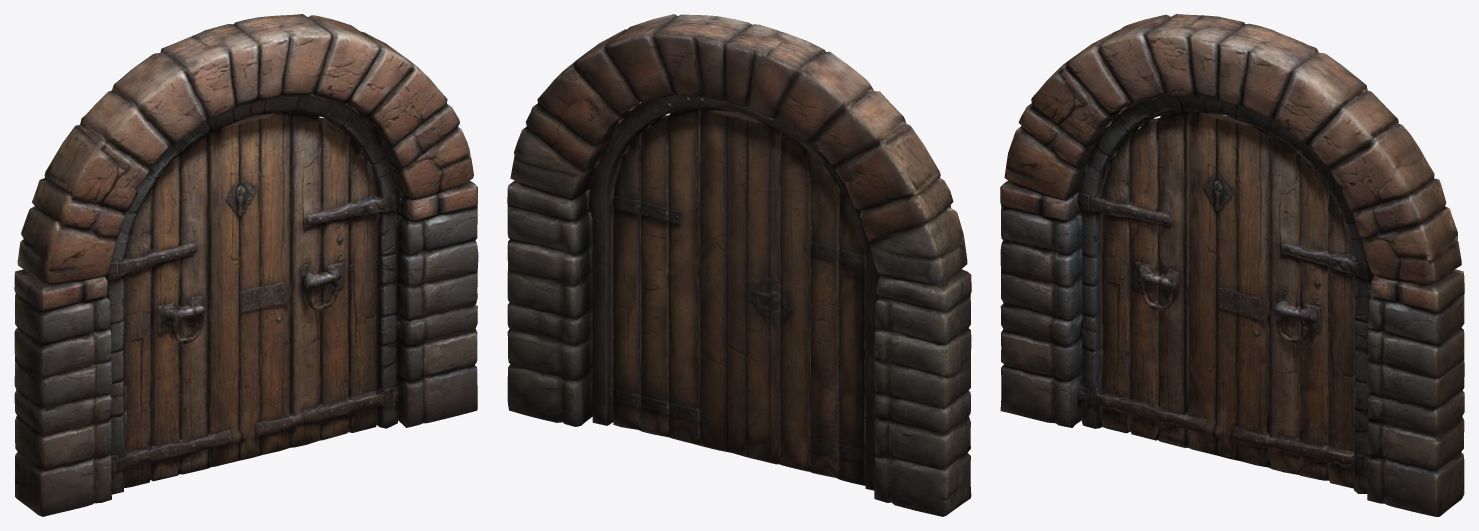
The model's file is env_wall_door.glb.
3 renders of one model, left to right at view 1: azimuth 30°, elevation 25°; view 2: azimuth 150°, elevation 25°; view 3: azimuth 330°, elevation 25°, orthographic.
Bounding box in the file's own units: 2 × 1.85 × 0.2413.
1 material, 1 textured.
